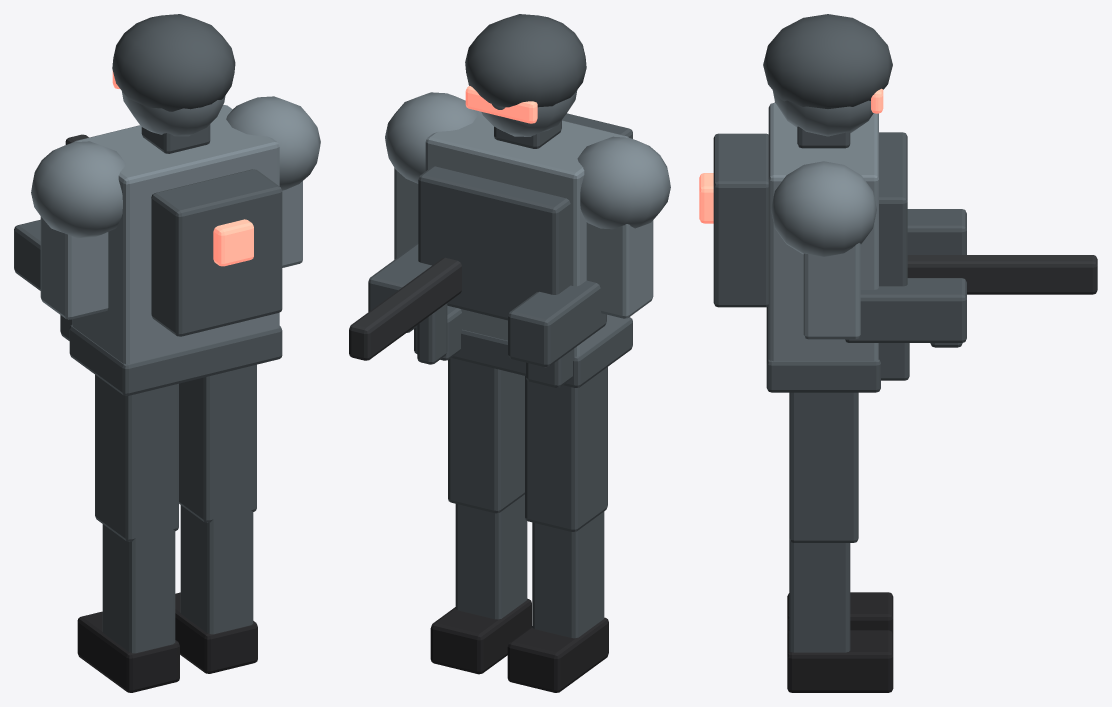
File: char_soldier.glb
The picture shows the model from 3 angles, left to right: view 1: azimuth 30°, elevation 25°; view 2: azimuth 150°, elevation 25°; view 3: azimuth 270°, elevation 25°; orthographic projection.
Parts seen in each view (by area): view 1: torso, pack, thigh, thigh.001, helm, shin, shin.001, shoulder, belt, upper, shoulder.001, boot (+6 smaller); view 2: plate, thigh, torso, thigh.001, helm, shin, shin.001, shoulder, fore, upper, gun, boot (+12 smaller); view 3: torso, thigh.001, pack, helm, shoulder.001, shin.001, gun, fore.001, boot.001, upper.001, plate, belt (+6 smaller).
Boxes of the visible parts, x1,y1,x2,y2 form: torso: [72, 105, 279, 364]; pack: [151, 169, 282, 336]; thigh: [95, 375, 178, 541]; thigh.001: [179, 364, 256, 522]; helm: [112, 14, 235, 111]; shin: [102, 523, 175, 653]; shin.001: [180, 504, 253, 634]; shoulder: [31, 141, 125, 238]; belt: [69, 325, 282, 395]; upper: [40, 216, 108, 319]; shoulder.001: [226, 96, 320, 190]; boot: [77, 611, 179, 692]; plate: [418, 166, 570, 320]; thigh: [525, 367, 607, 531]; torso: [425, 110, 630, 356]; thigh.001: [448, 358, 524, 513]; helm: [465, 14, 586, 107]; shin: [532, 511, 604, 638]; shin.001: [455, 494, 527, 619]; shoulder: [577, 136, 670, 229]; fore: [508, 280, 606, 367]; upper: [586, 220, 653, 318]; gun: [349, 257, 461, 360]; boot: [507, 617, 608, 692]; torso: [768, 103, 878, 361]; thigh.001: [789, 392, 858, 542]; pack: [713, 133, 768, 307]; helm: [763, 14, 892, 108]; shoulder.001: [771, 161, 876, 256]; shin.001: [789, 539, 850, 652]; gun: [907, 255, 1097, 294]; fore.001: [845, 278, 966, 342]; boot.001: [787, 630, 893, 692]; upper.001: [803, 243, 860, 339]; plate: [879, 132, 907, 286]; belt: [766, 306, 880, 392].
Bounding box in the file's own units: 0.78 × 1.73 × 0.975.
